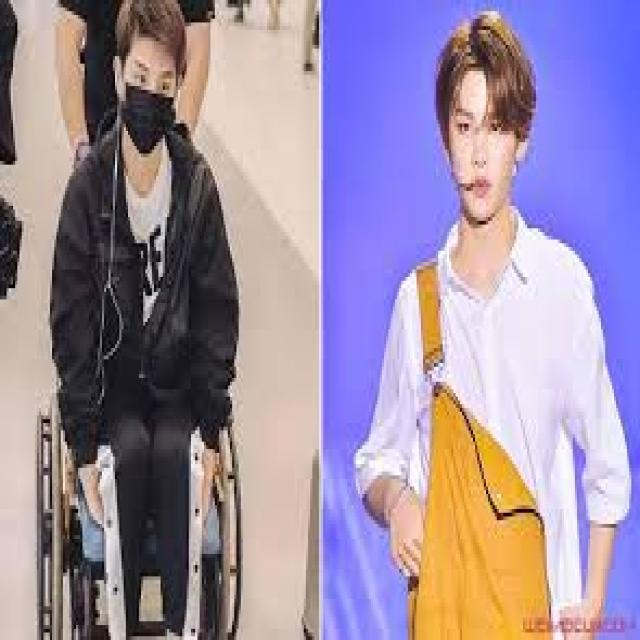wheelchairs: (18, 128, 250, 636)
